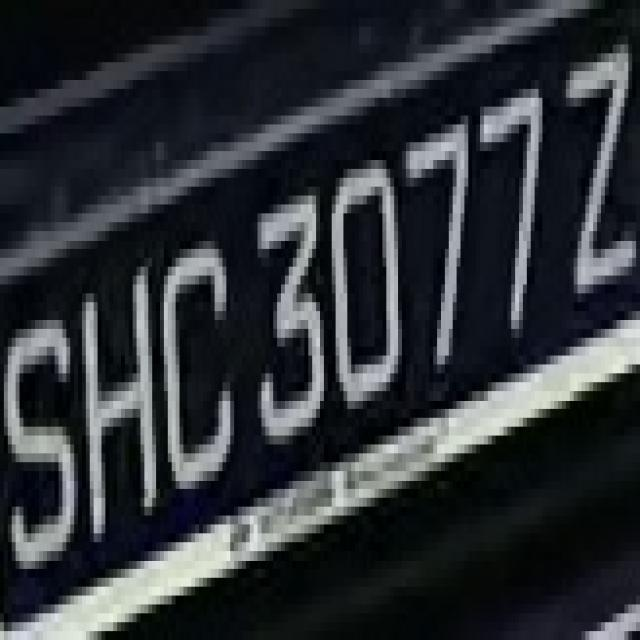0: (316, 142, 402, 418)
3: (246, 160, 324, 471)
7: (449, 80, 550, 373), (398, 116, 472, 391)
C: (144, 214, 238, 516)
H: (78, 240, 160, 560)
S: (4, 284, 78, 586)
Z: (554, 26, 640, 338)
